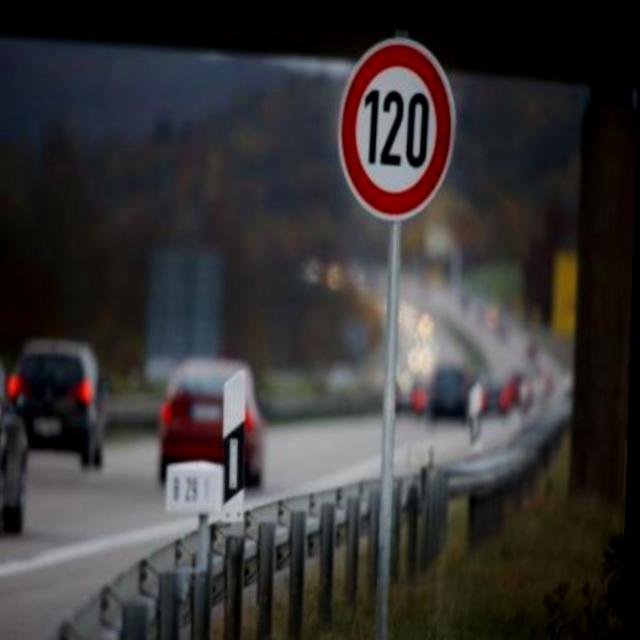limit120: (334, 30, 466, 226)
